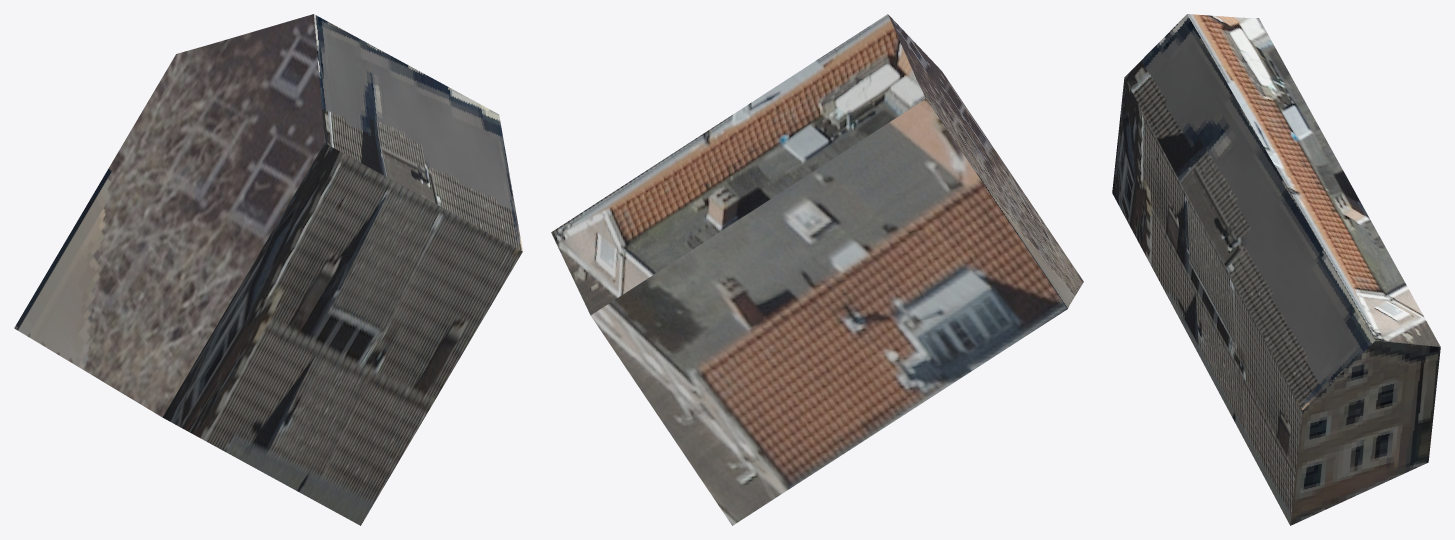
3 renders of one model, left to right at view 1: azimuth 30°, elevation 25°; view 2: azimuth 150°, elevation 25°; view 3: azimuth 270°, elevation 25°, orthographic. The views are drawn at different scales.
Parts seen in each view (by area): view 1: BAG_0599100000656923 (×3); view 2: BAG_0599100000656923 (×3); view 3: BAG_0599100000656923 (×3).
Part boxes in pixels (bbox=[...]): BAG_0599100000656923 (×3): bbox=[14, 14, 522, 525]; BAG_0599100000656923 (×3): bbox=[551, 14, 1083, 525]; BAG_0599100000656923 (×3): bbox=[1112, 14, 1440, 525].
Size of the model in its own units: 15.77 by 15.62 by 9.93.
3 materials, 3 textured.
